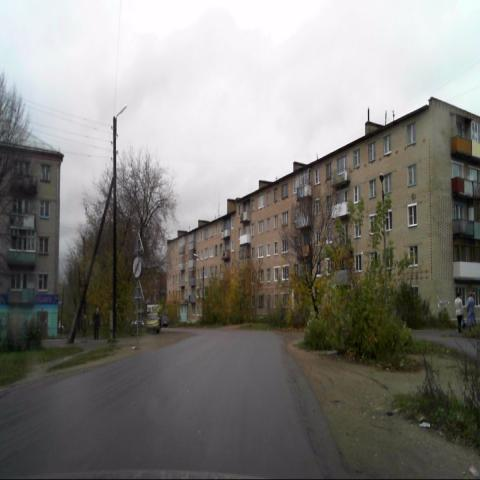3_25: (132, 255, 142, 278)
